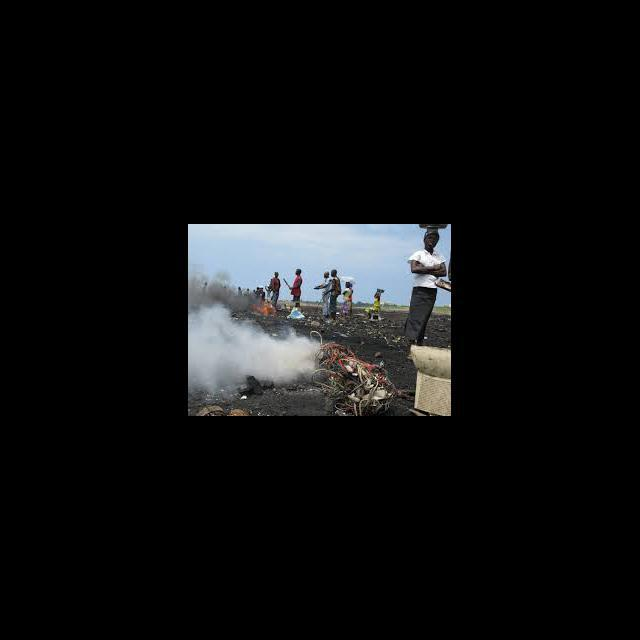Fire: (252, 302, 278, 318)
Smoke: (188, 307, 319, 387), (188, 281, 252, 313)
